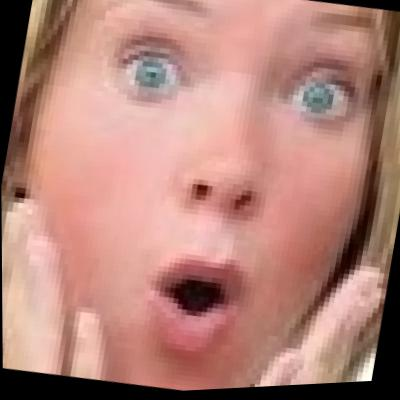surprise: (12, 0, 396, 400)
